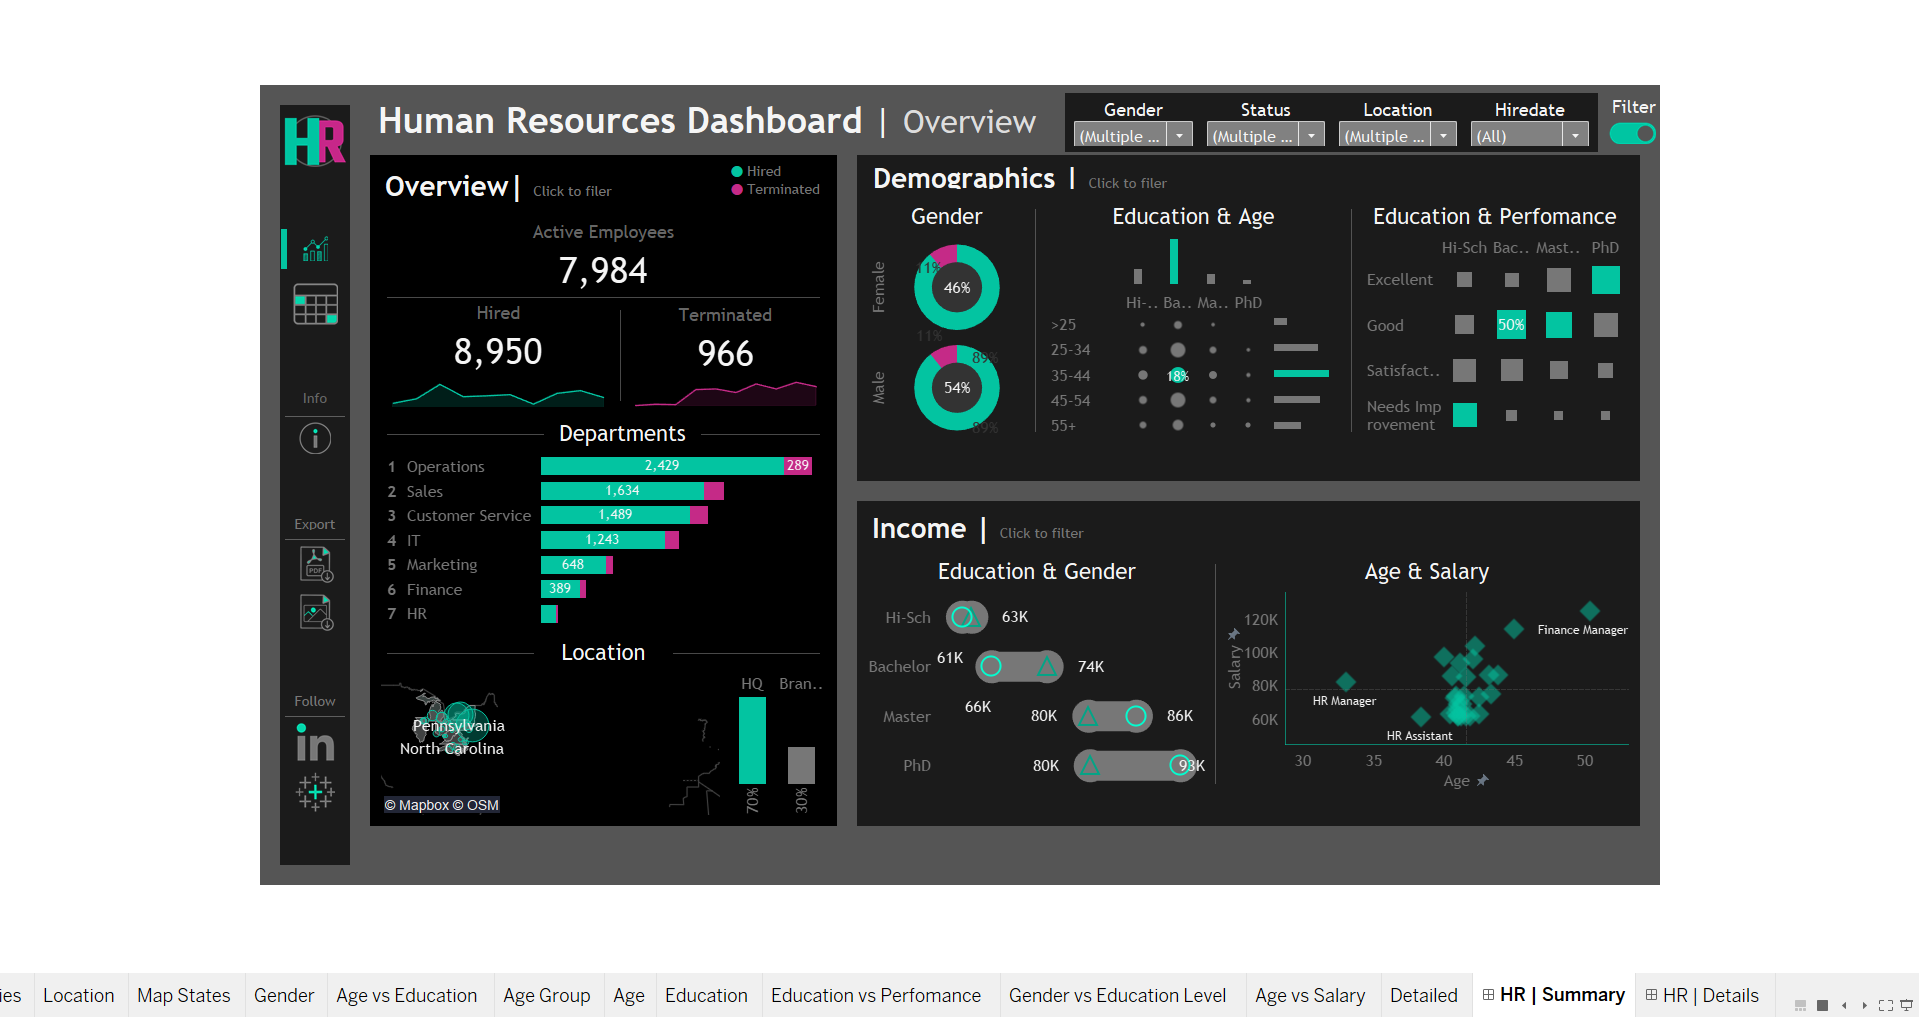

What the dashboard file says about the page in this screenshot:
{"tool":"tableau","page":{"name":"HR | Summary","canvas":[1400,800],"ordinal":1},"visuals":[{"type":"blank","box":[91,0,1288,237]},{"type":"text","box":[110,0,839,70]},{"type":"blank","box":[949,0,431,70]},{"type":"filter","title":"Gender vs Education Level","param":"[federated.0p6fefk0604tik14spvu11plxfvf].[none:Gender:nk]","box":[807,10,133,55]},{"type":"filter","title":"Gender vs Education Level","param":"[federated.0p6fefk0604tik14spvu11plxfvf].[none:Calculation_1358961236300029952:n","box":[940,10,132,55]},{"type":"filter","title":"Gender vs Education Level","param":"[federated.0p6fefk0604tik14spvu11plxfvf].[none:Calculation_1429048504032821255:n","box":[1072,10,132,55]},{"type":"filter","title":"Gender vs Education Level","param":"[federated.0p6fefk0604tik14spvu11plxfvf].[yr:Hiredate:ok]","box":[1204,10,132,55]},{"type":"text","box":[1341,11,66,21]},{"type":"image","param":"Image/Logo.png","box":[20,20,70,71]},{"type":"dashboard-object","box":[1349,25,47,46]},{"type":"text","box":[117,77,453,49]},{"type":"text","box":[604,77,769,32]},{"type":"text","box":[467,78,100,37]},{"type":"blank","box":[20,91,70,50]},{"type":"text","box":[604,114,166,34]},{"type":"blank","box":[775,114,1,243]},{"type":"text","box":[781,114,305,34]},{"type":"blank","box":[1091,114,1,243]},{"type":"text","box":[1097,114,276,34]},{"type":"text","box":[117,126,453,35]},{"type":"blank","box":[21,144,6,40]},{"type":"worksheet","title":"Gender","mark":"Pie","rows":["Gender"],"cols":["Calculation_1429048504068218889","Calculation_1429048504068218889"],"box":[604,148,166,209]},{"type":"worksheet","title":"Education","mark":"Bar","rows":["Calculation_1429048504022540288"],"cols":["Education Level"],"box":[781,148,305,55]},{"type":"worksheet","title":"Education vs Perfomance","mark":"Square","rows":["Performance Rating"],"cols":["Education Level"],"box":[1097,148,276,209]},{"type":"dashboard-object","box":[30,151,50,25]},{"type":"worksheet","title":"BAN Active","mark":"Text","box":[117,161,453,49]},{"type":"blank","box":[20,186,70,10]},{"type":"dashboard-object","box":[20,196,70,45]},{"type":"worksheet","title":"Age vs Education","mark":"Circle","rows":["Calculation_1429048504071589899"],"cols":["Education Level"],"box":[781,203,229,154]},{"type":"worksheet","title":"Age Group","mark":"Bar","rows":["Calculation_1429048504071589899"],"cols":["Calculation_1429048504022540288"],"box":[1010,203,66,154]},{"type":"blank","box":[117,210,453,5]},{"type":"text","box":[117,215,243,25]},{"type":"blank","box":[360,215,1,111]},{"type":"text","box":[361,215,208.9,29]},{"type":"text","box":[91,237,1288,332]},{"type":"worksheet","title":"BAN Hired","mark":"Text","box":[117,240,243,51]},{"type":"blank","box":[20,241,70,60]},{"type":"worksheet","title":"BAN Terminated","mark":"Text","box":[361,244,208.9,47]},{"type":"worksheet","title":"Hired By Year","mark":"Area","rows":["Calculation_1429048504022540288","Calculation_1429048504022540288"],"cols":["Hiredate"],"box":[117,291,243,35]},{"type":"worksheet","title":"Terminated By Year","mark":"Area","rows":["Calculation_1429048504023220225","Calculation_1429048504023220225"],"cols":["Termdate"],"box":[361,291,208.9,35]},{"type":"text","box":[20,301,70,25]},{"type":"blank","box":[20,326,70,11]},{"type":"blank","box":[127,331,157,34]},{"type":"text","box":[284,331,157,34]},{"type":"blank","box":[441,331,119,34]},{"type":"dashboard-object","box":[20,337,70,32]},{"type":"blank","box":[604,357,769,32]},{"type":"worksheet","title":"Departments","mark":"Bar","rows":["Calculation_1429048504031883270","Department"],"cols":["Calculation_1429048504022540288"],"box":[117,365,453,180]},{"type":"blank","box":[20,369,70,60]},{"type":"text","box":[604,423,769,41]},{"type":"text","box":[20,429,70,20]},{"type":"blank","box":[20,449,70,11]},{"type":"dashboard-object","box":[20,460,70,38]},{"type":"text","box":[604,469,346,34]},{"type":"blank","box":[955,469,1,240]},{"type":"text","box":[961,469,412,34]},{"type":"blank","box":[20,498,70,10]},{"type":"worksheet","title":"Gender vs Education Level","mark":"Square","rows":["Education Level"],"cols":["Salary","Salary"],"box":[604,503,346,206]},{"type":"worksheet","title":"Age vs Salary","mark":"Shape","rows":["Salary"],"cols":["Calculation_1429048504070811658"],"box":[961,503,412,206]},{"type":"dashboard-object","box":[20,508,70,38]},{"type":"blank","box":[20,546,70,60]},{"type":"blank","box":[127,550,147,34]},{"type":"text","box":[274,550,139,34]},{"type":"blank","box":[413,550,147,34]},{"type":"blank","box":[91,569,1288,231]},{"type":"worksheet","title":"Map States","mark":"Automatic","box":[117,584,347,150]},{"type":"worksheet","title":"Location","mark":"Bar","rows":["Calculation_1429048504022540288"],"cols":["Calculation_1429048504032821255","Calculation1"],"box":[464,584,106,150]},{"type":"text","box":[20,606,70,20]},{"type":"blank","box":[20,626,70,11]},{"type":"image","param":"Image/contact-linkedin.png","box":[20,637,70,40]},{"type":"blank","box":[20,677,70,10]},{"type":"image","param":"Image/contact-public.png","box":[20,687,70,40]},{"type":"blank","box":[20,727,70,53]}]}

Visuals, with their boxes on the page's 1400x800 design canvas (x1, y1, x2, y2). These are canvas units, not pixel positions in the 1919x1017 screenshot, which may show the page scaled, cropped or inside an application window:
blank: (x1=91, y1=0, x2=1379, y2=237)
text: (x1=110, y1=0, x2=949, y2=70)
blank: (x1=949, y1=0, x2=1380, y2=70)
"Gender vs Education Level" filter: (x1=807, y1=10, x2=940, y2=65)
"Gender vs Education Level" filter: (x1=940, y1=10, x2=1072, y2=65)
"Gender vs Education Level" filter: (x1=1072, y1=10, x2=1204, y2=65)
"Gender vs Education Level" filter: (x1=1204, y1=10, x2=1336, y2=65)
text: (x1=1341, y1=11, x2=1407, y2=32)
image: (x1=20, y1=20, x2=90, y2=91)
dashboard-object: (x1=1349, y1=25, x2=1396, y2=71)
text: (x1=117, y1=77, x2=570, y2=126)
text: (x1=604, y1=77, x2=1373, y2=109)
text: (x1=467, y1=78, x2=567, y2=115)
blank: (x1=20, y1=91, x2=90, y2=141)
text: (x1=604, y1=114, x2=770, y2=148)
blank: (x1=775, y1=114, x2=776, y2=357)
text: (x1=781, y1=114, x2=1086, y2=148)
blank: (x1=1091, y1=114, x2=1092, y2=357)
text: (x1=1097, y1=114, x2=1373, y2=148)
text: (x1=117, y1=126, x2=570, y2=161)
blank: (x1=21, y1=144, x2=27, y2=184)
"Gender" worksheet (Pie marks): (x1=604, y1=148, x2=770, y2=357)
"Education" worksheet (Bar marks): (x1=781, y1=148, x2=1086, y2=203)
"Education vs Perfomance" worksheet (Square marks): (x1=1097, y1=148, x2=1373, y2=357)
dashboard-object: (x1=30, y1=151, x2=80, y2=176)
"BAN Active" worksheet (Text marks): (x1=117, y1=161, x2=570, y2=210)
blank: (x1=20, y1=186, x2=90, y2=196)
dashboard-object: (x1=20, y1=196, x2=90, y2=241)
"Age vs Education" worksheet (Circle marks): (x1=781, y1=203, x2=1010, y2=357)
"Age Group" worksheet (Bar marks): (x1=1010, y1=203, x2=1076, y2=357)
blank: (x1=117, y1=210, x2=570, y2=215)
text: (x1=117, y1=215, x2=360, y2=240)
blank: (x1=360, y1=215, x2=361, y2=326)
text: (x1=361, y1=215, x2=570, y2=244)
text: (x1=91, y1=237, x2=1379, y2=569)
"BAN Hired" worksheet (Text marks): (x1=117, y1=240, x2=360, y2=291)
blank: (x1=20, y1=241, x2=90, y2=301)
"BAN Terminated" worksheet (Text marks): (x1=361, y1=244, x2=570, y2=291)
"Hired By Year" worksheet (Area marks): (x1=117, y1=291, x2=360, y2=326)
"Terminated By Year" worksheet (Area marks): (x1=361, y1=291, x2=570, y2=326)
text: (x1=20, y1=301, x2=90, y2=326)
blank: (x1=20, y1=326, x2=90, y2=337)
blank: (x1=127, y1=331, x2=284, y2=365)
text: (x1=284, y1=331, x2=441, y2=365)
blank: (x1=441, y1=331, x2=560, y2=365)
dashboard-object: (x1=20, y1=337, x2=90, y2=369)
blank: (x1=604, y1=357, x2=1373, y2=389)
"Departments" worksheet (Bar marks): (x1=117, y1=365, x2=570, y2=545)
blank: (x1=20, y1=369, x2=90, y2=429)
text: (x1=604, y1=423, x2=1373, y2=464)
text: (x1=20, y1=429, x2=90, y2=449)
blank: (x1=20, y1=449, x2=90, y2=460)
dashboard-object: (x1=20, y1=460, x2=90, y2=498)
text: (x1=604, y1=469, x2=950, y2=503)
blank: (x1=955, y1=469, x2=956, y2=709)
text: (x1=961, y1=469, x2=1373, y2=503)
blank: (x1=20, y1=498, x2=90, y2=508)
"Gender vs Education Level" worksheet (Square marks): (x1=604, y1=503, x2=950, y2=709)
"Age vs Salary" worksheet (Shape marks): (x1=961, y1=503, x2=1373, y2=709)
dashboard-object: (x1=20, y1=508, x2=90, y2=546)
blank: (x1=20, y1=546, x2=90, y2=606)
blank: (x1=127, y1=550, x2=274, y2=584)
text: (x1=274, y1=550, x2=413, y2=584)
blank: (x1=413, y1=550, x2=560, y2=584)
blank: (x1=91, y1=569, x2=1379, y2=800)
"Map States" worksheet: (x1=117, y1=584, x2=464, y2=734)
"Location" worksheet (Bar marks): (x1=464, y1=584, x2=570, y2=734)
text: (x1=20, y1=606, x2=90, y2=626)
blank: (x1=20, y1=626, x2=90, y2=637)
image: (x1=20, y1=637, x2=90, y2=677)
blank: (x1=20, y1=677, x2=90, y2=687)
image: (x1=20, y1=687, x2=90, y2=727)
blank: (x1=20, y1=727, x2=90, y2=780)
